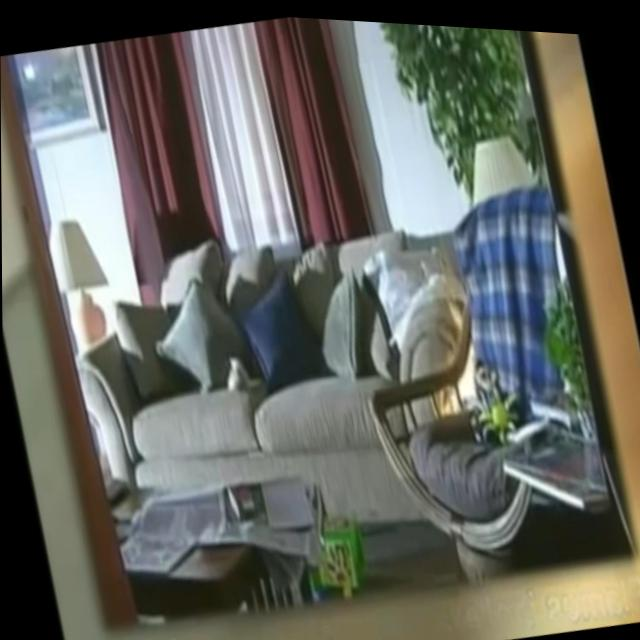fire: (417, 289, 489, 411)
